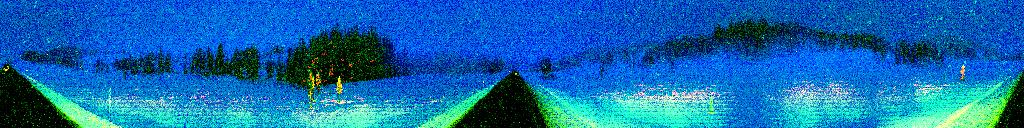pole: (108, 86, 112, 122)
